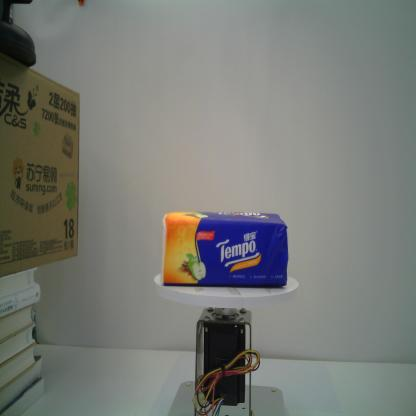Tissue: (157, 208, 288, 292)
